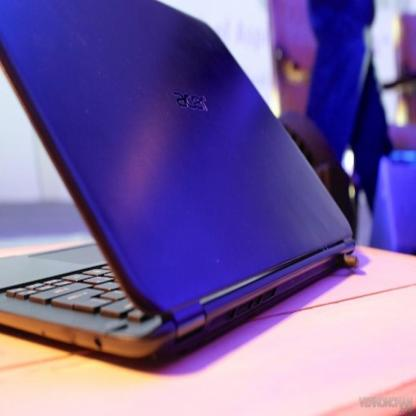board: (7, 17, 362, 381)
